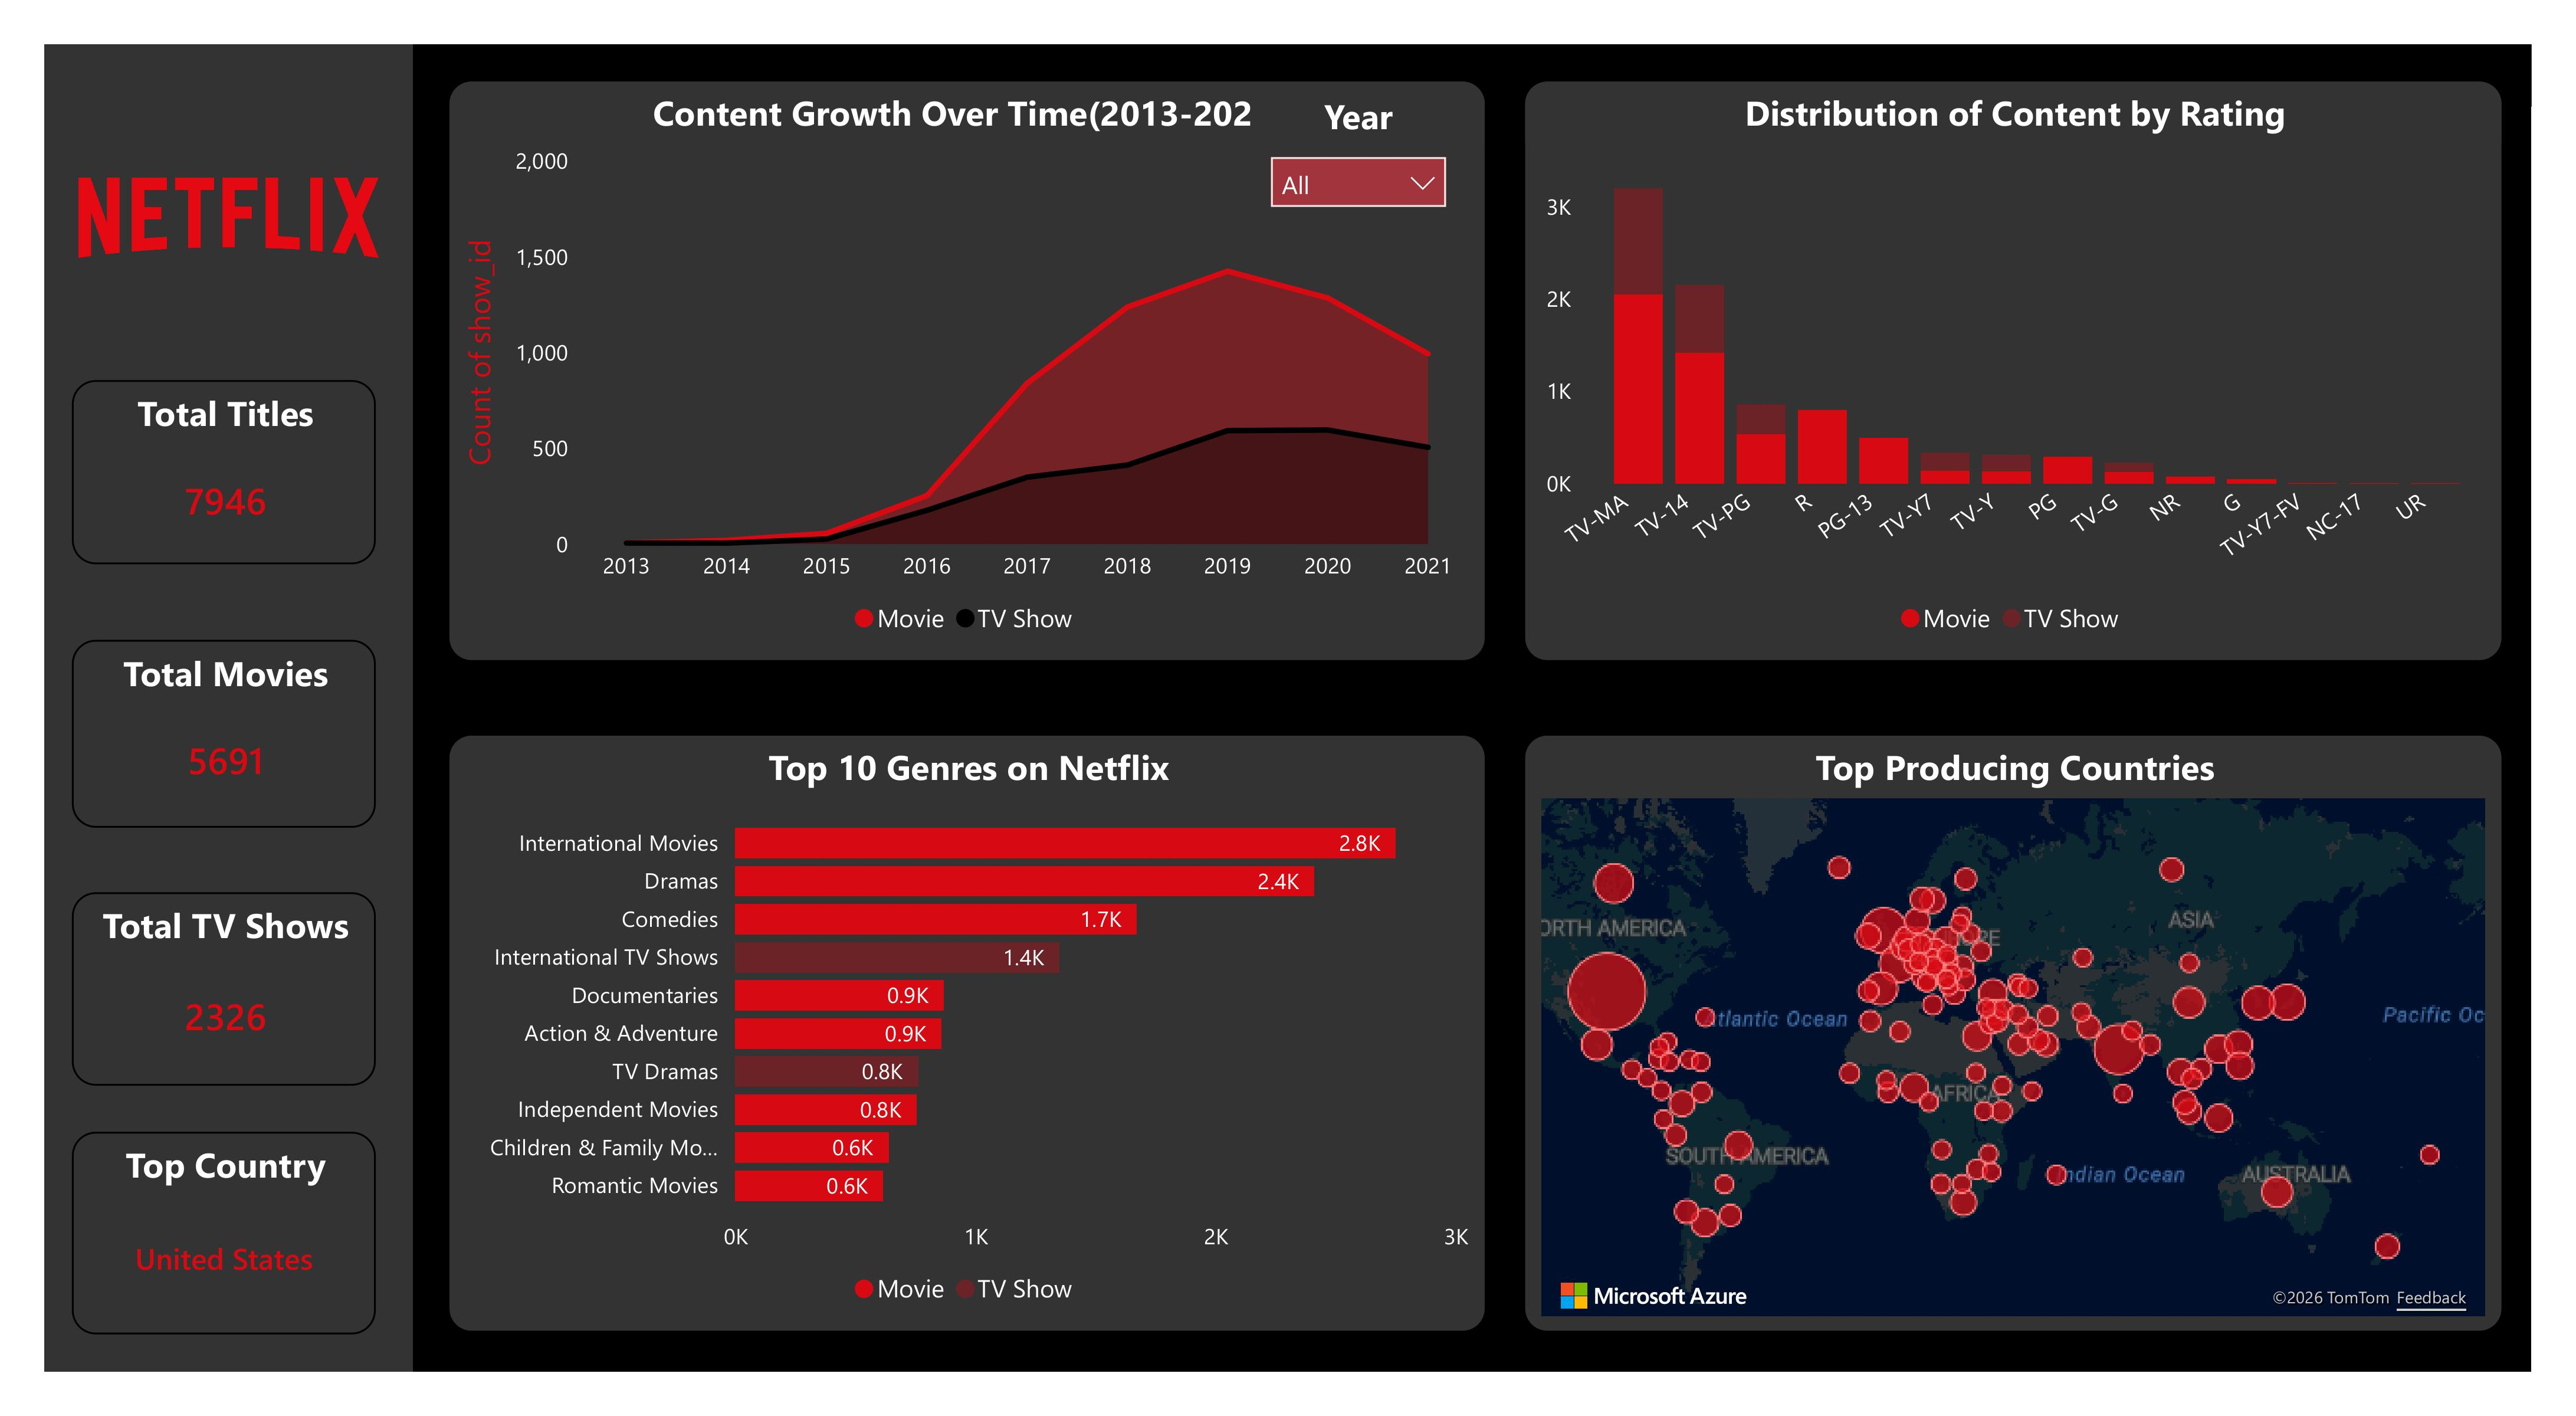

The dashboard page shown, as its layout file describes it:
{"tool":"powerbi","page":{"name":"Netflix Content Overview Dashboard","canvas":[1350,720],"ordinal":0},"visuals":[{"type":"shape","box":[0,0,200,720],"z":0},{"type":"areaChart","title":"Content Growth Over Time(2013-2021)","fields":{"Y":["CountNonNull(netflix_titles.show_id)"],"Category":["netflix_titles.date_added.Variation.Date Hierarchy.Year"],"Series":["netflix_titles.type"]},"box":[218.8,19.2,563.7,316.2],"z":1000},{"type":"columnChart","title":"Distribution of Content by Rating ","fields":{"Category":["netflix_titles.rating"],"Y":["CountNonNull(netflix_titles.show_id)"],"Series":["netflix_titles.type"]},"box":[803.3,19.2,531.8,316.2],"z":2000},{"type":"barChart","title":"Top 10 Genres on Netflix","fields":{"Category":["netflix_listed_in.category"],"Series":["netflix_titles.type"],"Y":["CountNonNull(netflix_listed_in.show_id)"]},"box":[218.8,373.7,563.7,325.8],"z":3000},{"type":"azureMap","title":"Top Producing Countries","fields":{"Category":["countries_released.country"],"Size":["CountNonNull(countries_released.show_id)"]},"box":[803.3,373.7,531.8,325.8],"z":4000},{"type":"image","box":[0,0,200,181.7],"z":5000},{"type":"cardVisual","title":"Total Titles","fields":{"Data":["Count(countries_released.show_id)"]},"box":[15,181.7,165,100],"z":6000},{"type":"cardVisual","title":"Total Movies","fields":{"Data":["Count(countries_released.show_id)"]},"box":[15,323.3,165,101.7],"z":7000},{"type":"cardVisual","title":"Total TV Shows","fields":{"Data":["Count(netflix_cast.show_id)"]},"box":[15,460,165,105],"z":8000},{"type":"cardVisual","title":"Top Country","fields":{"Data":["Min(countries_released.country)"]},"box":[15,590,165,110],"z":9000},{"type":"slicer","title":"Year","fields":{"Values":["netflix_titles.date_added.Variation.Date Hierarchy.Year","netflix_titles.date_added.Variation.Date Hierarchy.Month"]},"box":[656.4,25.6,115,65.5],"z":10000}]}

Visuals, with their boxes on the page's 1350x720 design canvas (x1, y1, x2, y2). These are canvas units, not pixel positions in the 2576x1416 screenshot, which may show the page scaled, cropped or inside an application window:
shape: [0, 0, 200, 720]
"Content Growth Over Time(2013-2021)" areaChart: [219, 19, 782, 335]
"Distribution of Content by Rating " columnChart: [803, 19, 1335, 335]
"Top 10 Genres on Netflix" barChart: [219, 374, 782, 700]
"Top Producing Countries" azureMap: [803, 374, 1335, 700]
image: [0, 0, 200, 182]
"Total Titles" cardVisual: [15, 182, 180, 282]
"Total Movies" cardVisual: [15, 323, 180, 425]
"Total TV Shows" cardVisual: [15, 460, 180, 565]
"Top Country" cardVisual: [15, 590, 180, 700]
"Year" slicer: [656, 26, 771, 91]
